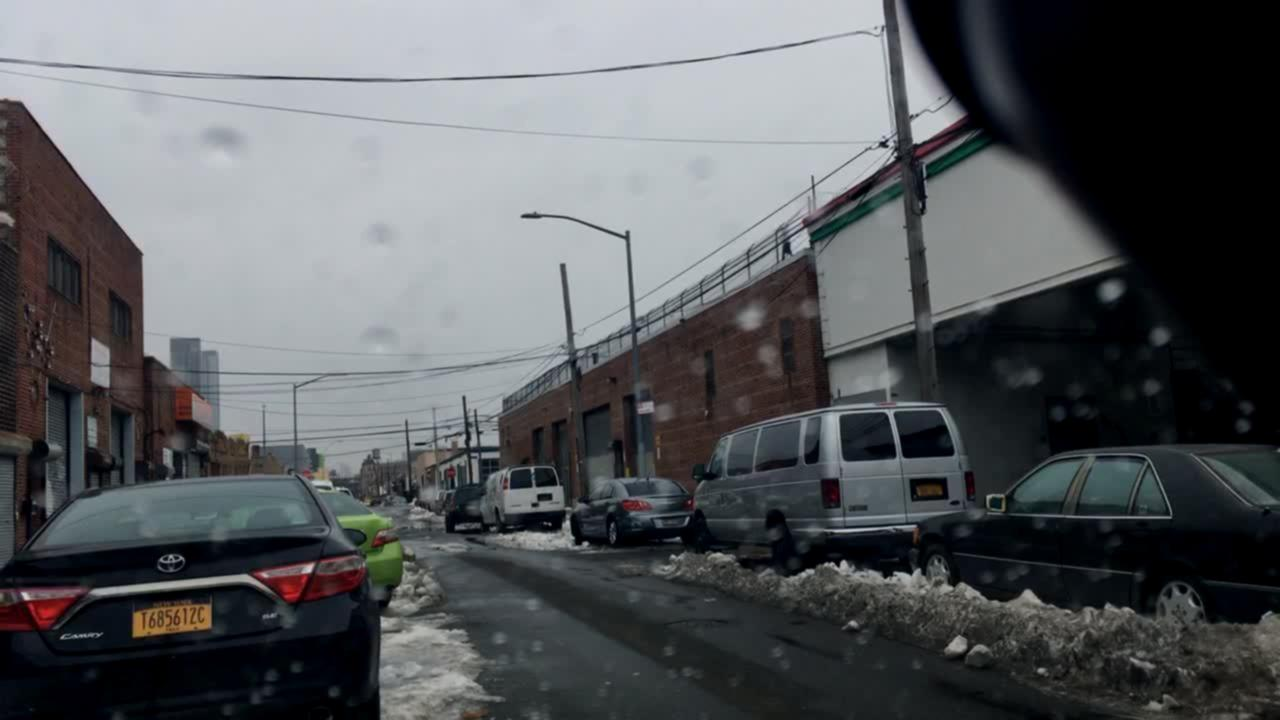Toyota: (149, 546, 192, 575)
